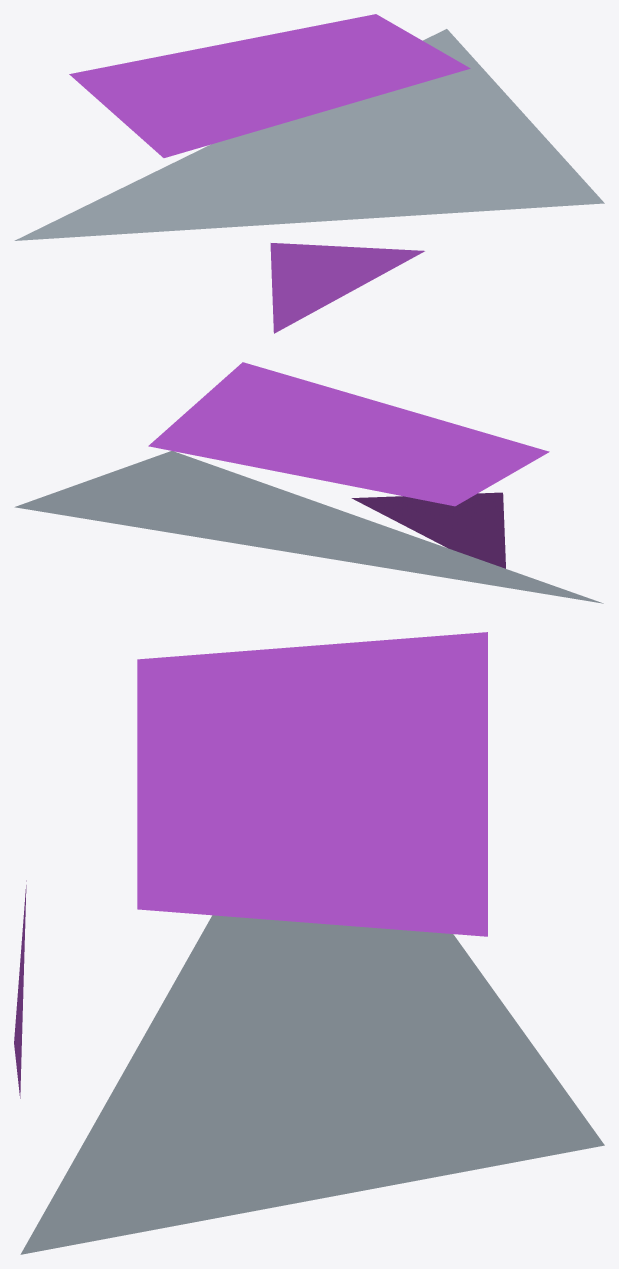
File: CH_DeltaDelayArtillery_LOD2.glb
The picture shows the model from 3 angles, top to bottom: view 1: azimuth 30°, elevation 25°; view 2: azimuth 150°, elevation 25°; view 3: azimuth 270°, elevation 25°; orthographic projection. The views are drawn at different scales.
Visible parts, largest first — view 1: EntranceGate; view 2: EntranceGate; view 3: EntranceGate.
Boxes of the visible parts, x1=… form: EntranceGate: x1=14, y1=14, x2=604, y2=333; EntranceGate: x1=14, y1=362, x2=603, y2=603; EntranceGate: x1=14, y1=632, x2=604, y2=1254.
Bounding box in the file's own units: 580 × 200 × 313.
